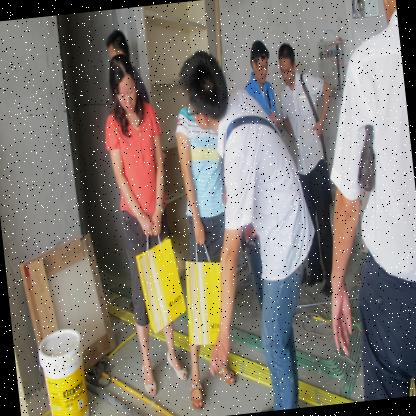sem_capacete: (175, 46, 233, 130), (105, 49, 142, 120), (247, 36, 273, 86), (276, 42, 299, 86)
sem_colete_refletivo: (316, 13, 415, 295), (211, 85, 305, 288), (102, 99, 170, 234), (171, 91, 228, 222), (280, 68, 334, 178), (240, 74, 280, 137)
